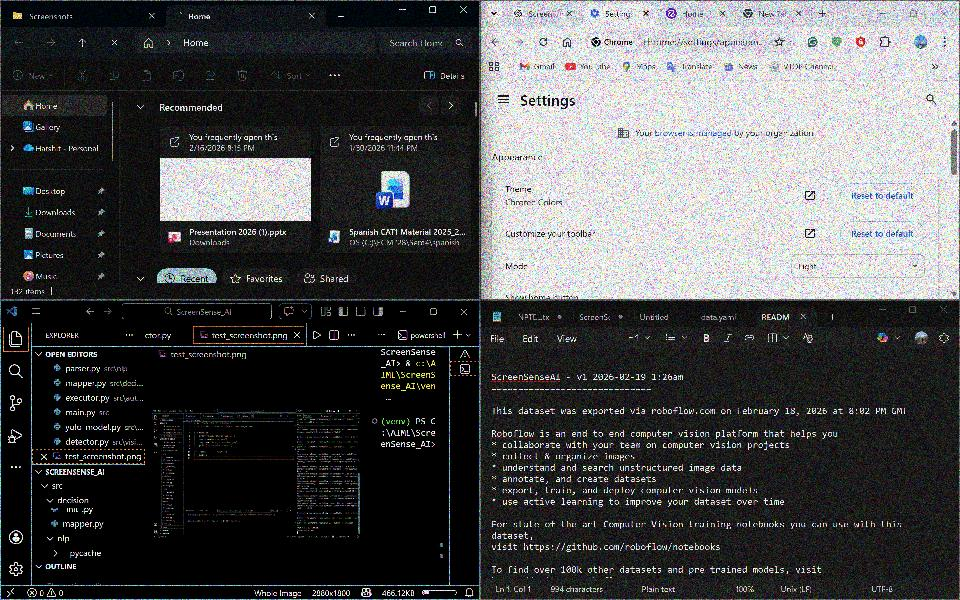close_button: (933, 4, 955, 25), (454, 1, 475, 21), (453, 302, 475, 319), (934, 303, 952, 321)
maximize_button: (902, 3, 925, 24), (901, 303, 926, 322), (423, 2, 445, 21), (424, 302, 442, 321)
minimize_button: (872, 302, 897, 322), (873, 3, 894, 25), (391, 4, 414, 21), (393, 302, 413, 321)
